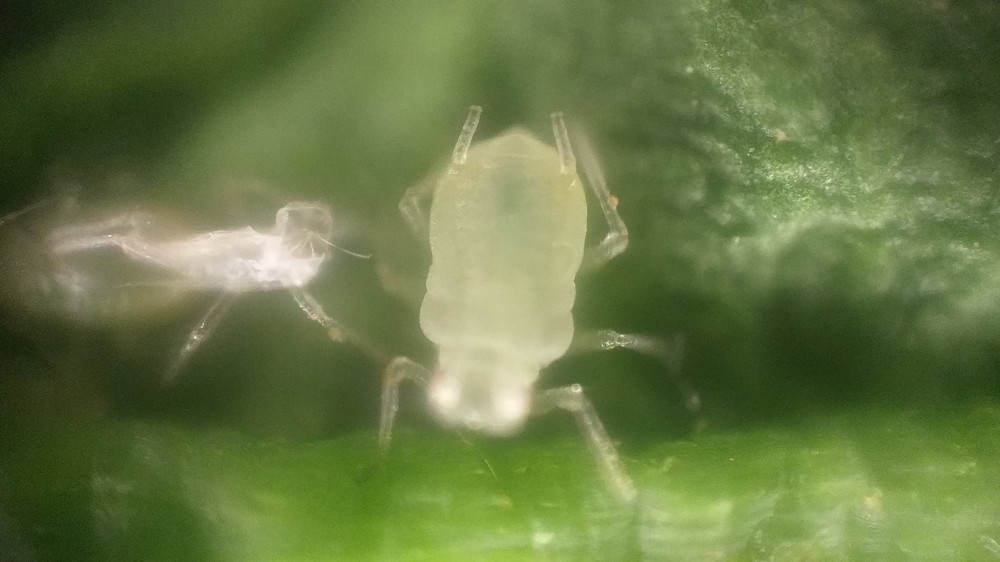Pulgon: (322, 91, 733, 502)
